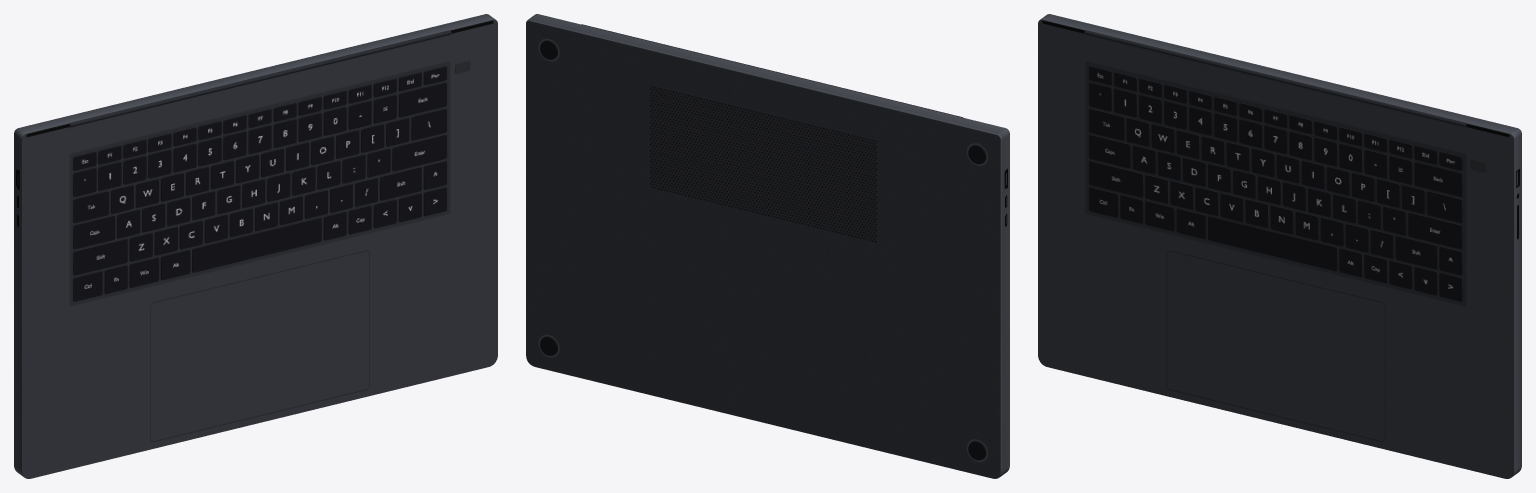
Rendered from body.obj.
3 renders of one model, left to right at view 1: azimuth 30°, elevation 25°; view 2: azimuth 150°, elevation 25°; view 3: azimuth 330°, elevation 25°, orthographic.
Parts seen in each view (by area): view 1: deck, keys, base.002, base.003, hinge; view 2: base.004, base.002, base.003, base.005; view 3: deck, keys, base.002, base.001, hinge.
Boxes of the visible parts, x1,y1,x2,y2 form: deck: (22, 20, 497, 478); keys: (73, 61, 469, 301); base.002: (15, 14, 496, 135); base.003: (14, 130, 24, 477); hinge: (69, 30, 451, 127); base.004: (526, 21, 1000, 478); base.002: (527, 14, 1008, 136); base.003: (998, 130, 1009, 477); base.005: (540, 40, 986, 460); deck: (1038, 20, 1513, 478); keys: (1089, 66, 1485, 301); base.002: (1039, 14, 1520, 135); base.001: (1511, 130, 1521, 477); hinge: (1084, 30, 1466, 127).
Size of the model in its own units: 357 by 248 by 13.5.
Materials: 9 (6 with a texture image).
